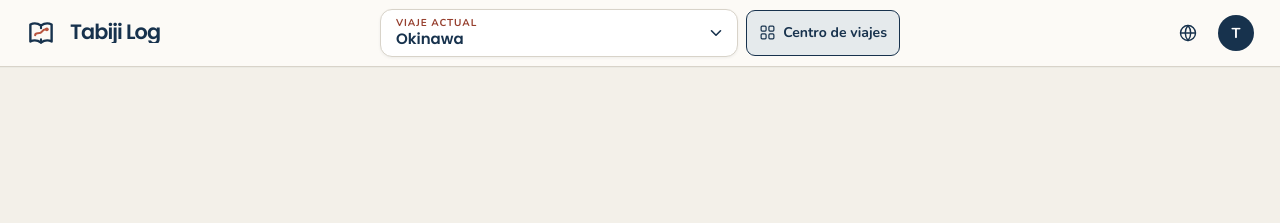
Test: keeps the trip selector beside the center entry and opens a selected trip from the center
Click the button with aria-label "Cambiar de viaje": (437, 23) [380,9,738,57]
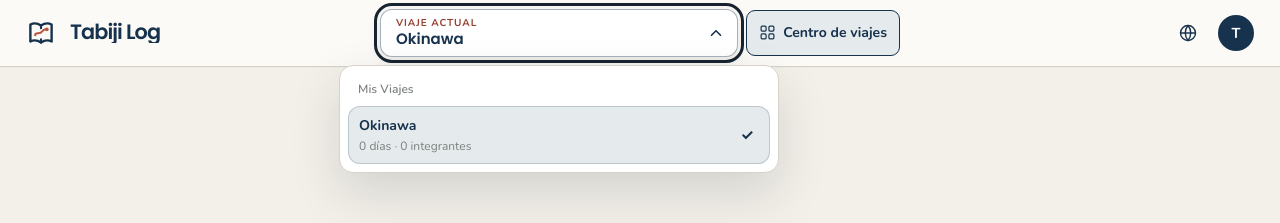
Click the option "Okinawa 0 días · 0 integrantes ✓": (388, 125) [348,106,770,164]
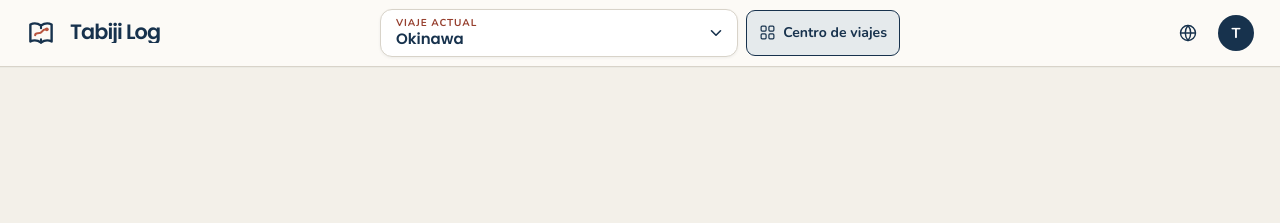
Result: the list is gone
